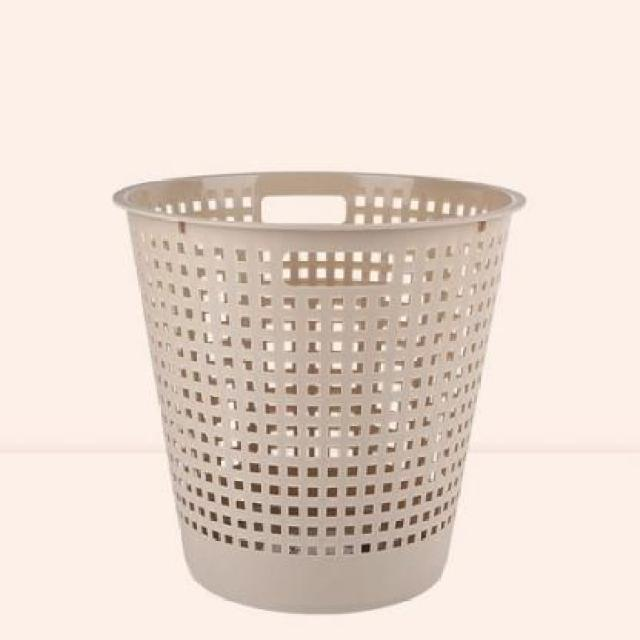dustbin: (106, 163, 536, 622)
